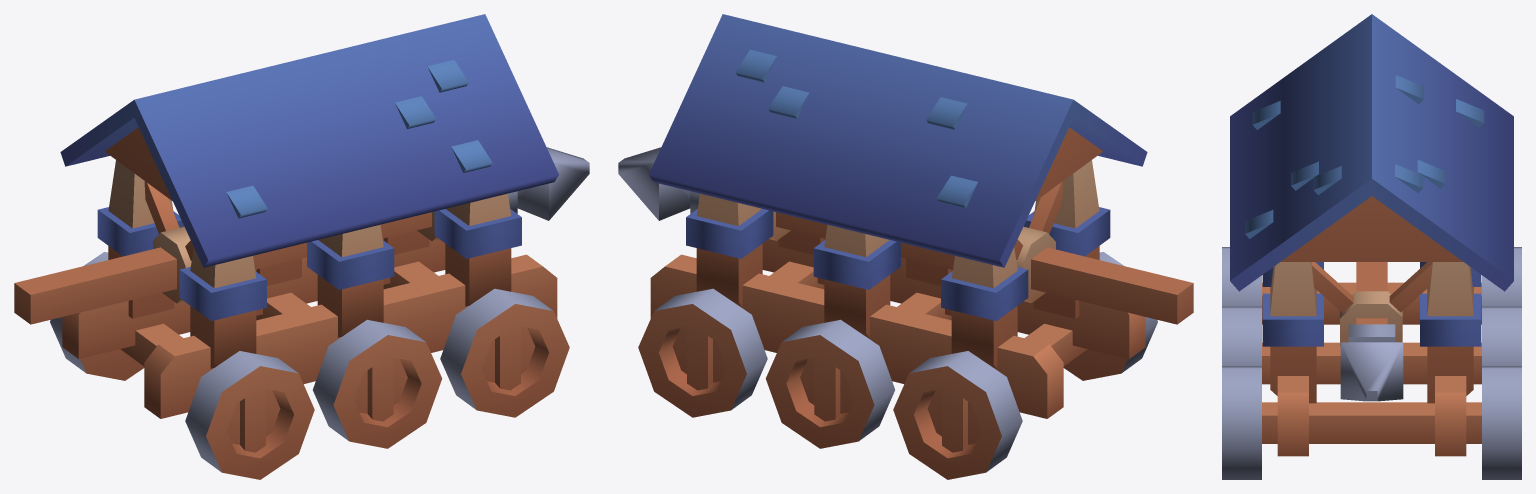
Rendered from siege-ram.glb.
The picture shows the model from 3 angles, left to right: view 1: azimuth 30°, elevation 25°; view 2: azimuth 150°, elevation 25°; view 3: azimuth 270°, elevation 25°; orthographic projection. The views are drawn at different scales.
Visible parts, largest first — view 1: siege-ram, wheel (×4), ram; view 2: siege-ram, wheel (×4), ram; view 3: siege-ram, wheel (×6), ram.
Part boxes in pixels (x1,y1,x2,y2): siege-ram: [60, 14, 558, 418]; wheel (×4): [50, 252, 569, 479]; ram: [14, 147, 589, 324]; siege-ram: [649, 14, 1147, 418]; wheel (×4): [638, 252, 1157, 479]; ram: [618, 147, 1193, 324]; siege-ram: [1230, 14, 1513, 456]; wheel (×6): [1222, 247, 1521, 479]; ram: [1340, 262, 1403, 401].
Bounding box in the file's own units: 2.09 × 1.18 × 1.
